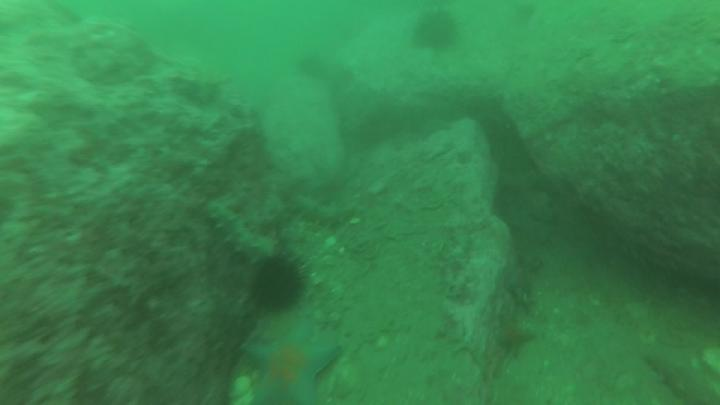echinus: (244, 246, 308, 316), (409, 11, 459, 55)
holothurian: (281, 188, 358, 230)
starfish: (240, 326, 343, 405), (496, 308, 536, 359)
